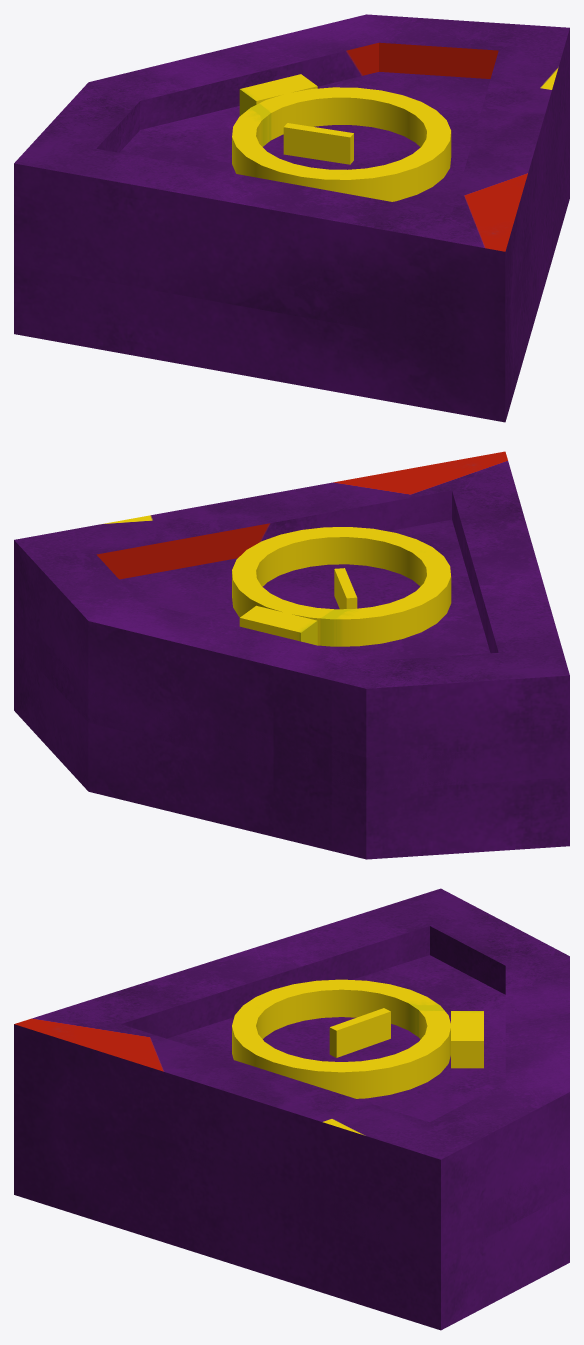
Rendered from Slow.FBX.
3 views of the same model, one above another, from view 1: azimuth 30°, elevation 25°; view 2: azimuth 150°, elevation 25°; view 3: azimuth 270°, elevation 25° (orthographic).
Visible parts, largest first — view 1: Cylinder026; view 2: Cylinder026; view 3: Cylinder026.
Boxes of the visible parts, x1=… form: Cylinder026: x1=14, y1=14, x2=569, y2=422; Cylinder026: x1=14, y1=451, x2=569, y2=859; Cylinder026: x1=14, y1=888, x2=569, y2=1330.
Size of the model in its own units: 20 by 17.32 by 5.87.
